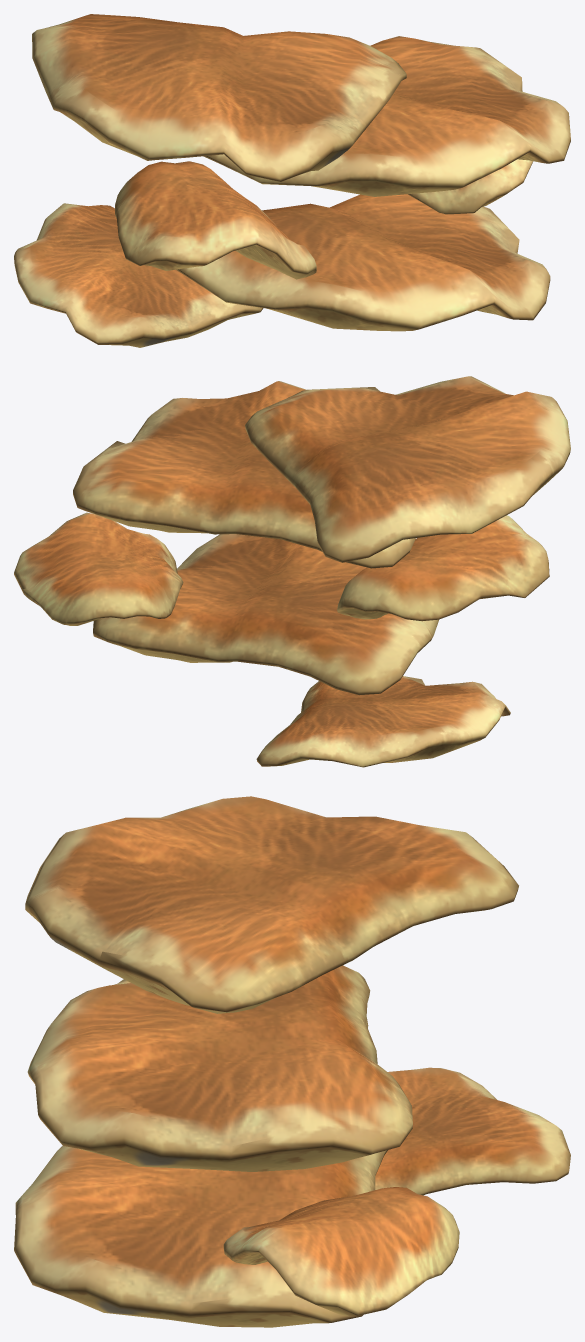
File: fungus_mushroom_laetiporus.glb
The picture shows the model from 3 angles, top to bottom: view 1: azimuth 30°, elevation 25°; view 2: azimuth 150°, elevation 25°; view 3: azimuth 270°, elevation 25°; orthographic projection. The views are drawn at different scales.
Visible parts, largest first — view 1: Mushroom_Laetiporus; view 2: Mushroom_Laetiporus; view 3: Mushroom_Laetiporus.
Boxes of the visible parts, left/top/right/bottom form: Mushroom_Laetiporus: left=14, top=14, right=570, bottom=347; Mushroom_Laetiporus: left=14, top=376, right=570, bottom=767; Mushroom_Laetiporus: left=14, top=796, right=570, bottom=1327.
Size of the model in its own units: 0.6234 by 0.35 by 0.5034.
1 material, 1 textured.
